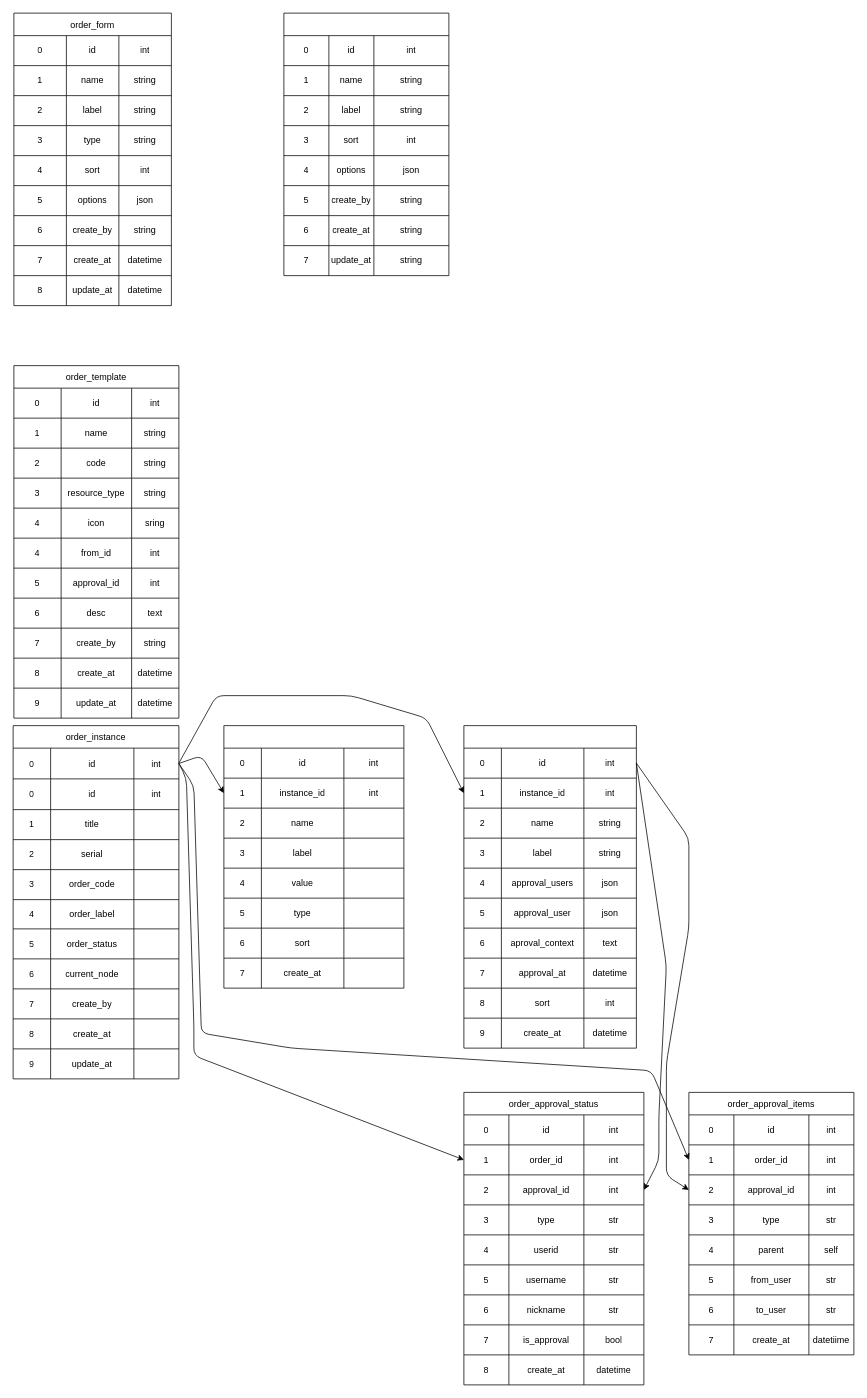
This 867x1398 diagram has some shape labels left out. Here are the shapes that lost their labels. From the top down, the box of each, then its label:
(283, 12, 449, 276): order_approval
(223, 725, 404, 988): order_instance_form
(463, 725, 636, 1048): order_instance_approval
